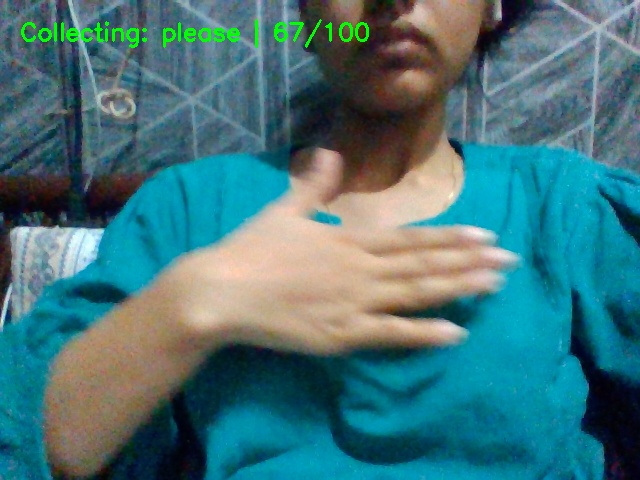please: (149, 146, 507, 381)
